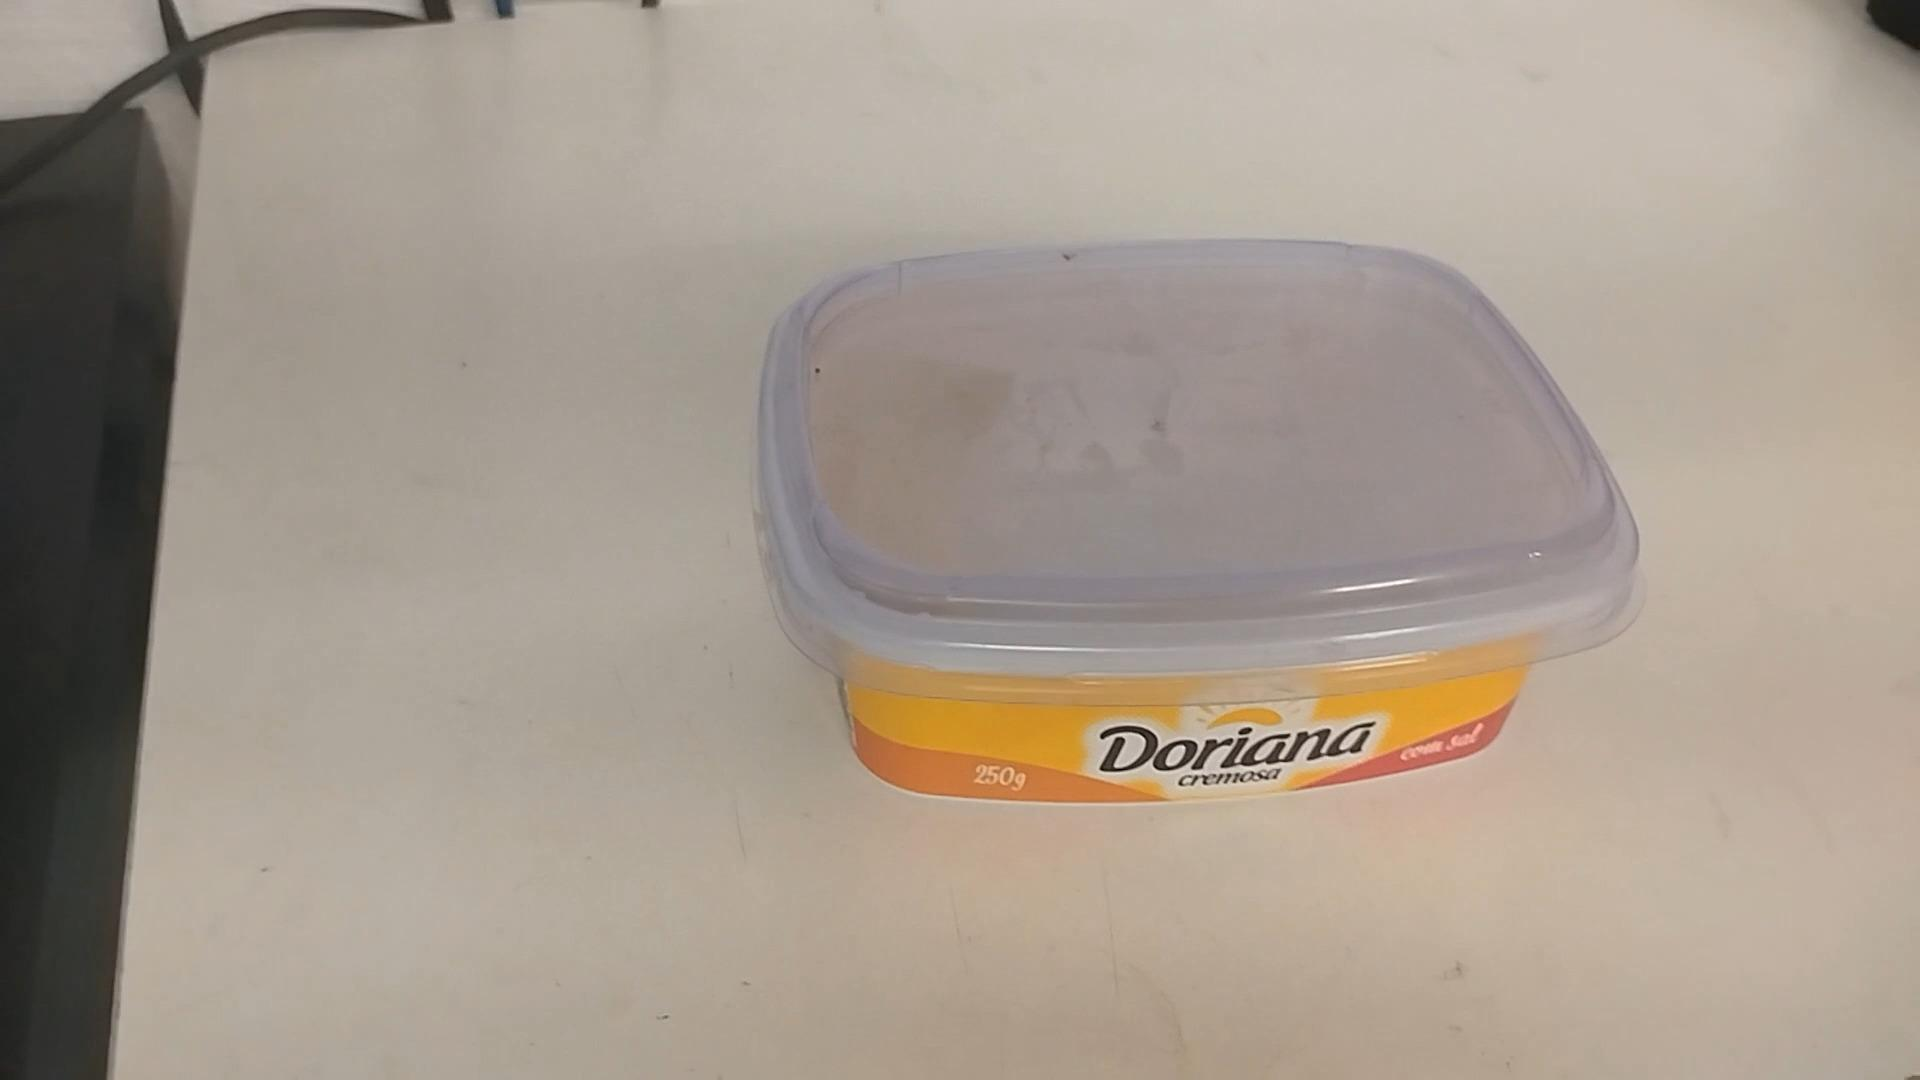butter: (750, 245, 1650, 810)
